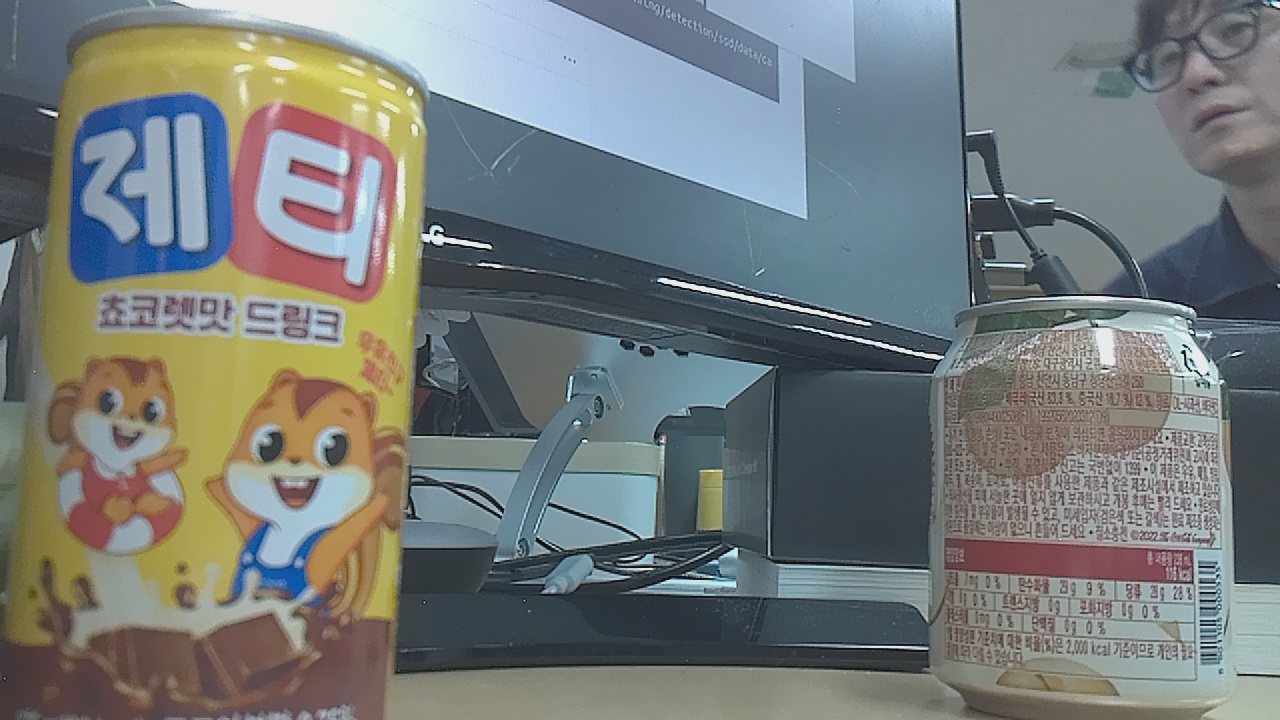IdH (pear juice): (924, 295, 1246, 720)
